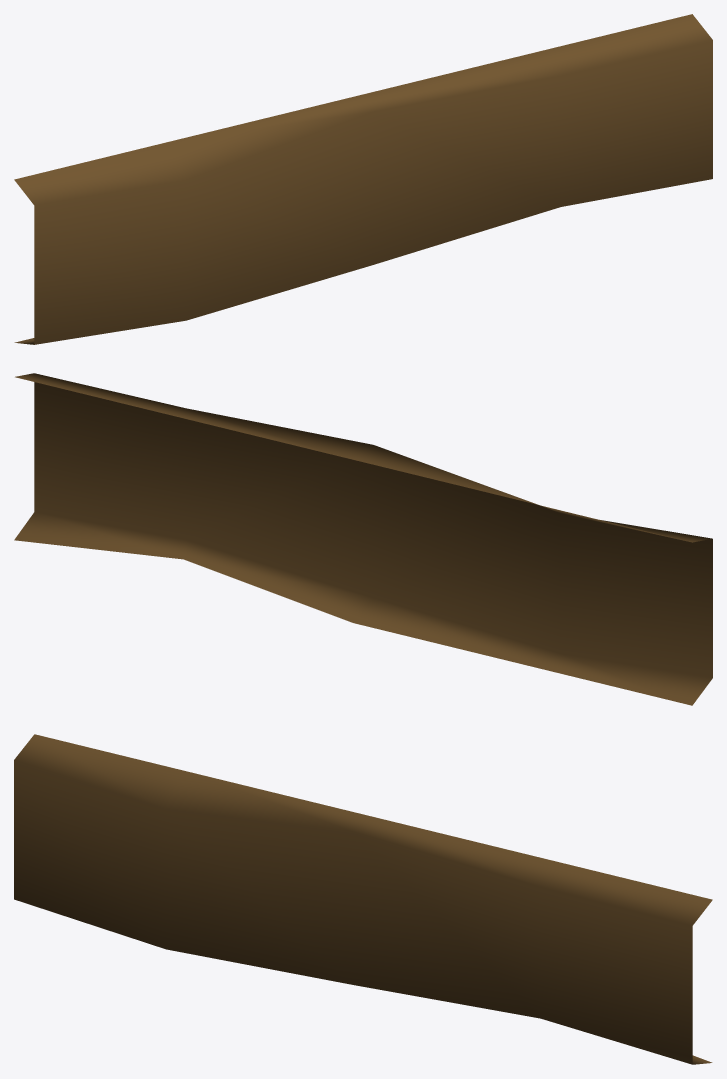
Rendered from Trim_Flat_L_Base.fbx.
3 views of the same model, one above another, from view 1: azimuth 30°, elevation 25°; view 2: azimuth 150°, elevation 25°; view 3: azimuth 330°, elevation 25° (orthographic).
Parts seen in each view (by area): view 1: Trim_Flat_L_01; view 2: Trim_Flat_L_01; view 3: Trim_Flat_L_01.
Boxes of the visible parts, <box> form: Trim_Flat_L_01: <box>14,14,712,344</box>; Trim_Flat_L_01: <box>14,373,712,705</box>; Trim_Flat_L_01: <box>14,734,712,1064</box>.
Size of the model in its own units: 100 by 22.99 by 5.22.
